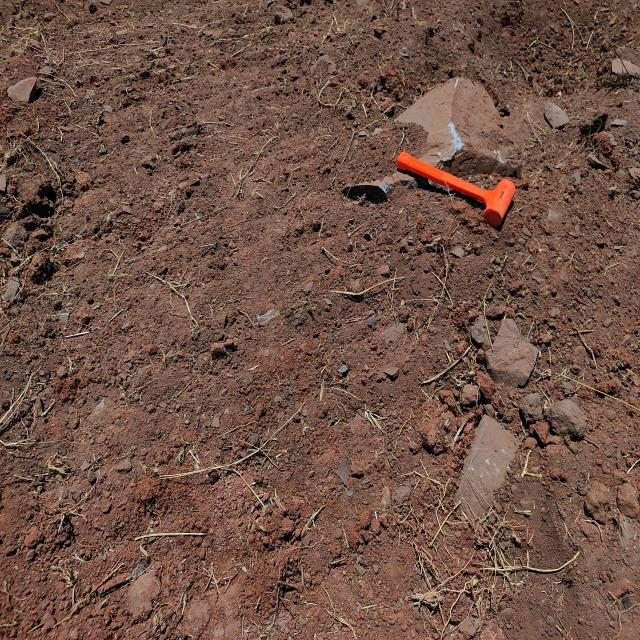Orange_hammer: (396, 149, 516, 229)
